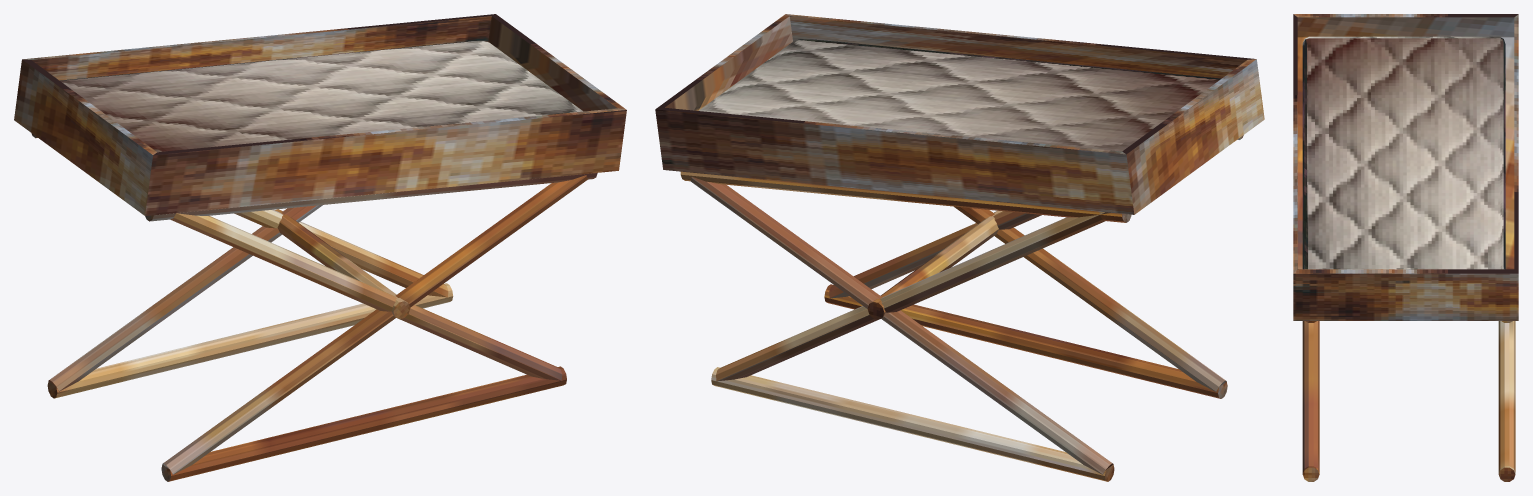
Rendered from MedBed.fbx.
3 views of the same model, side by side, from view 1: azimuth 30°, elevation 25°; view 2: azimuth 150°, elevation 25°; view 3: azimuth 270°, elevation 25° (orthographic). The views are drawn at different scales.
Visible parts, largest first — view 1: Cube.001, Cylinder.006, Cube; view 2: Cube.001, Cylinder.006, Cube; view 3: Cube, Cube.001, Cylinder.006.
Part boxes in pixels (bbox=[...]): Cube.001: bbox=[14, 14, 626, 215]; Cylinder.006: bbox=[31, 133, 597, 481]; Cube: bbox=[60, 41, 583, 152]; Cube.001: bbox=[655, 14, 1264, 214]; Cylinder.006: bbox=[680, 135, 1243, 481]; Cube: bbox=[699, 39, 1221, 151]; Cube: bbox=[1302, 36, 1505, 269]; Cube.001: bbox=[1293, 14, 1518, 320]; Cylinder.006: bbox=[1302, 321, 1515, 481].
Size of the model in its own units: 621 by 418 by 293.
2 materials, 2 textured.
